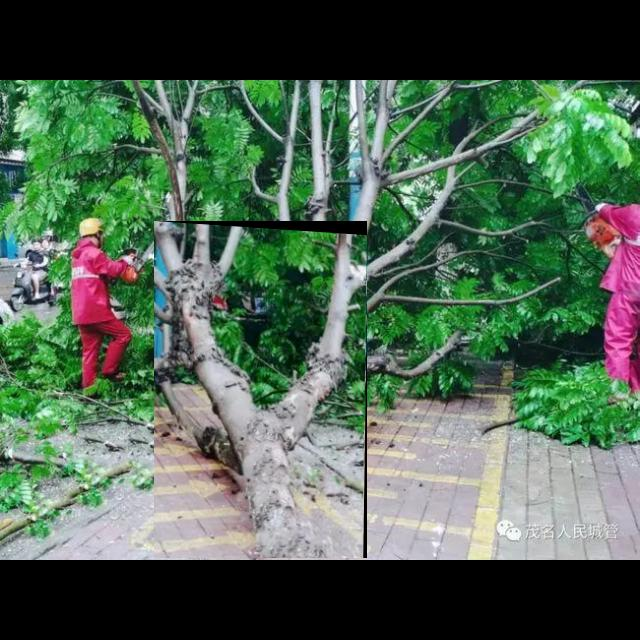Fallen Tree: (154, 221, 368, 559)
